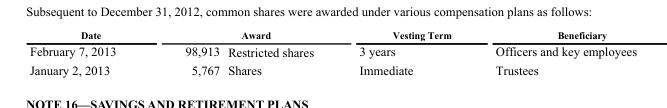table: (28, 28, 636, 76)
table column: (472, 28, 636, 76), (335, 28, 472, 76), (28, 28, 149, 76), (223, 28, 335, 76), (149, 28, 223, 76)
table column header: (28, 28, 636, 60)
table row: (28, 41, 636, 60), (28, 60, 636, 76), (28, 28, 636, 41)
table spanning cell: (472, 28, 636, 60), (335, 28, 472, 60), (28, 28, 149, 60), (149, 28, 335, 41)
